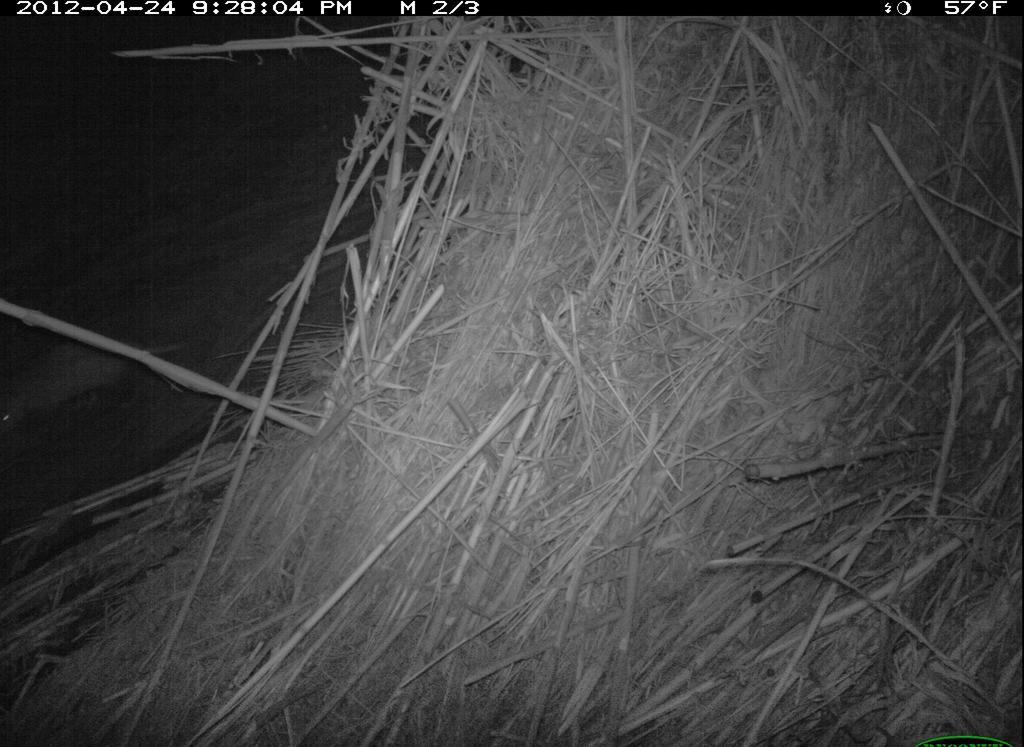opossum: (1, 329, 195, 447)
